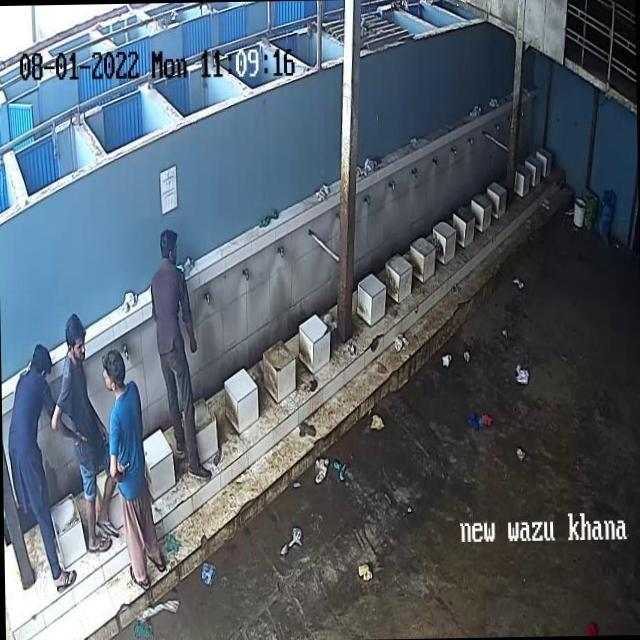person: (55, 316, 117, 556), (150, 228, 206, 486), (101, 354, 160, 585), (20, 340, 71, 590)
